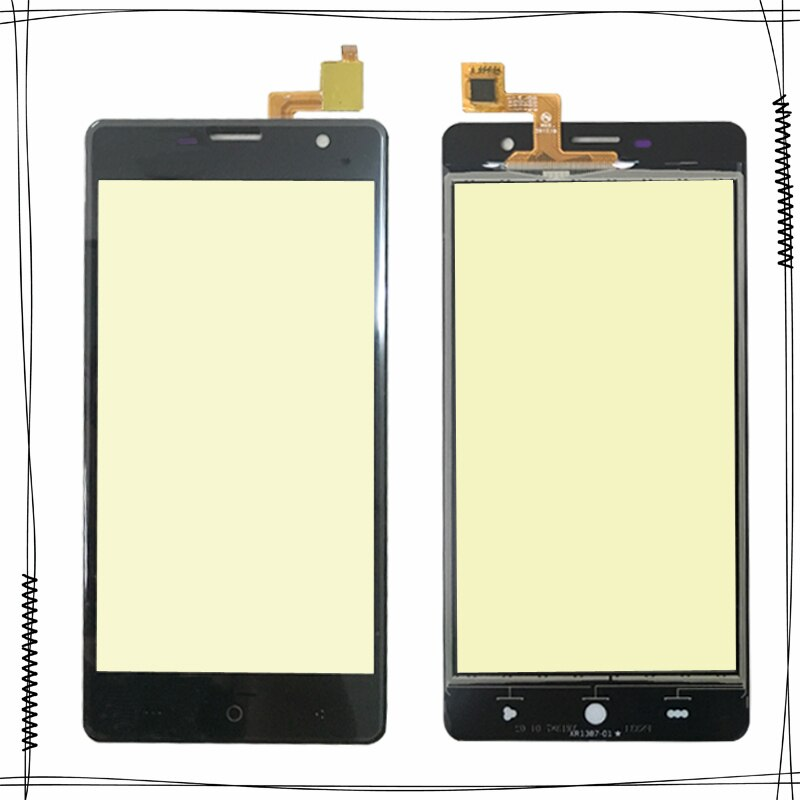Phone: (438, 118, 753, 747), (81, 118, 393, 747)
